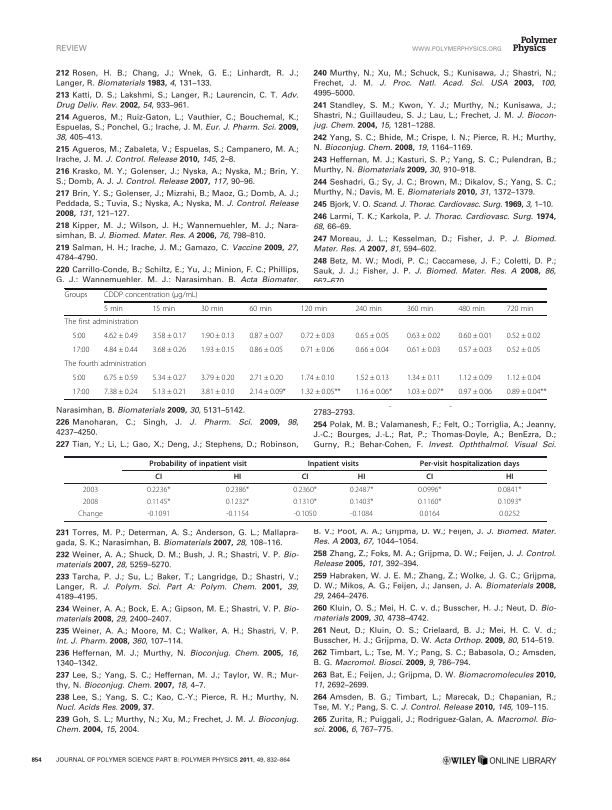borderless: (63, 287, 547, 399), (64, 455, 547, 521)
cell: (419, 459, 520, 468), (148, 459, 248, 468), (103, 291, 199, 300), (64, 359, 147, 369), (64, 317, 139, 327), (307, 459, 360, 468), (300, 387, 341, 397), (506, 387, 547, 397), (248, 387, 287, 397), (354, 387, 393, 397), (406, 387, 444, 397), (103, 331, 139, 341), (151, 331, 187, 341), (248, 331, 284, 341), (354, 331, 390, 341), (457, 331, 493, 341), (103, 345, 139, 355), (151, 345, 187, 355), (248, 345, 284, 355), (354, 345, 390, 355), (457, 345, 493, 355), (103, 373, 139, 383), (151, 373, 187, 383), (248, 373, 284, 383), (354, 373, 390, 383), (457, 373, 493, 383), (103, 387, 139, 397), (151, 387, 187, 397), (457, 387, 493, 397), (200, 331, 235, 341), (300, 331, 335, 341), (406, 331, 441, 341), (506, 331, 541, 341), (200, 345, 235, 355), (300, 345, 335, 355), (406, 345, 441, 355), (506, 345, 541, 355), (200, 373, 235, 383), (300, 373, 335, 383), (406, 373, 441, 383), (506, 373, 541, 383), (200, 387, 235, 397), (77, 509, 104, 519), (354, 304, 383, 313), (457, 304, 486, 313), (292, 485, 318, 495), (292, 497, 318, 507), (300, 304, 328, 313), (406, 304, 434, 313), (506, 304, 534, 313), (146, 485, 171, 495), (225, 485, 250, 495), (349, 485, 374, 495), (417, 485, 442, 495), (497, 485, 522, 495), (146, 497, 171, 507), (225, 497, 250, 507), (349, 497, 374, 507), (417, 497, 442, 507), (497, 497, 522, 507), (146, 509, 171, 519), (225, 509, 250, 519), (349, 509, 374, 519), (293, 509, 317, 519), (418, 509, 441, 519), (498, 509, 521, 519), (151, 304, 176, 313), (248, 304, 273, 313), (64, 291, 88, 300), (200, 304, 224, 313), (71, 345, 90, 355), (71, 387, 90, 397), (103, 304, 124, 313), (82, 485, 99, 495), (82, 497, 99, 507), (71, 331, 86, 341), (71, 373, 86, 383), (154, 472, 163, 482), (233, 472, 242, 482), (357, 472, 366, 482), (425, 472, 434, 482), (505, 472, 514, 482), (301, 472, 309, 482)
